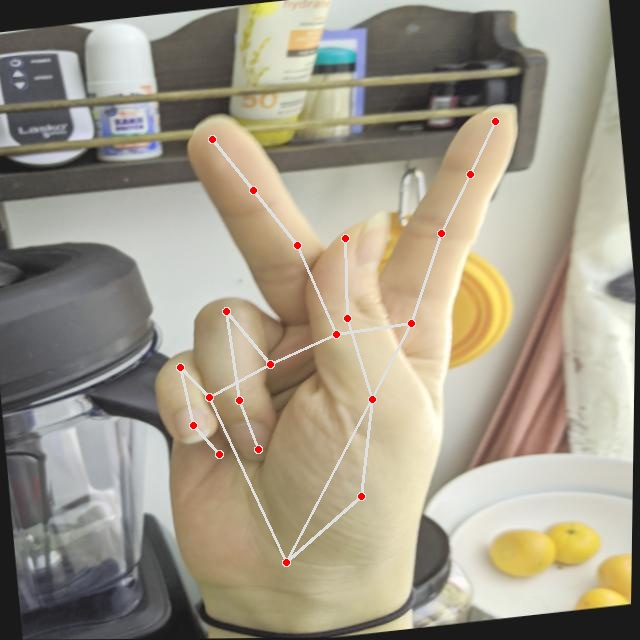K: (113, 75, 578, 612)
